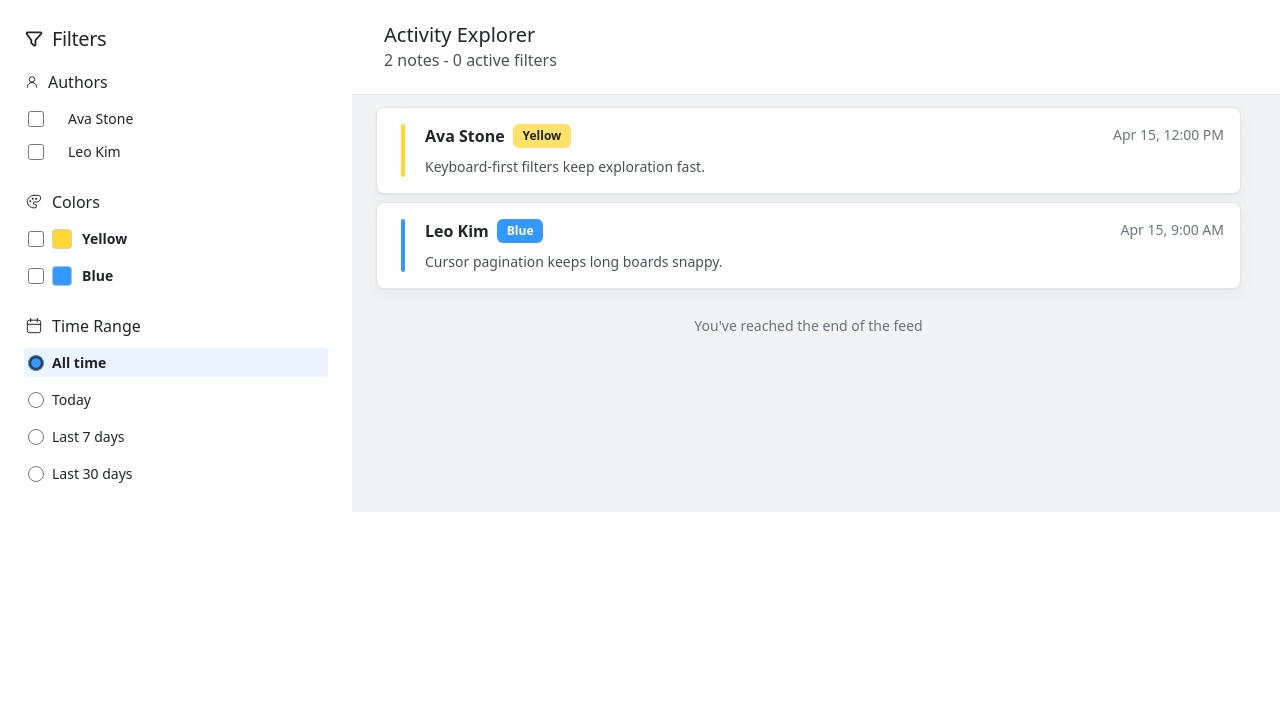
Test case: ActivityExplorerPage › switches note details from feed selection and allows closing selection
Step 1. Click the button with aria-label "note from ava stone" → [465, 136], box [376,107,1241,194]
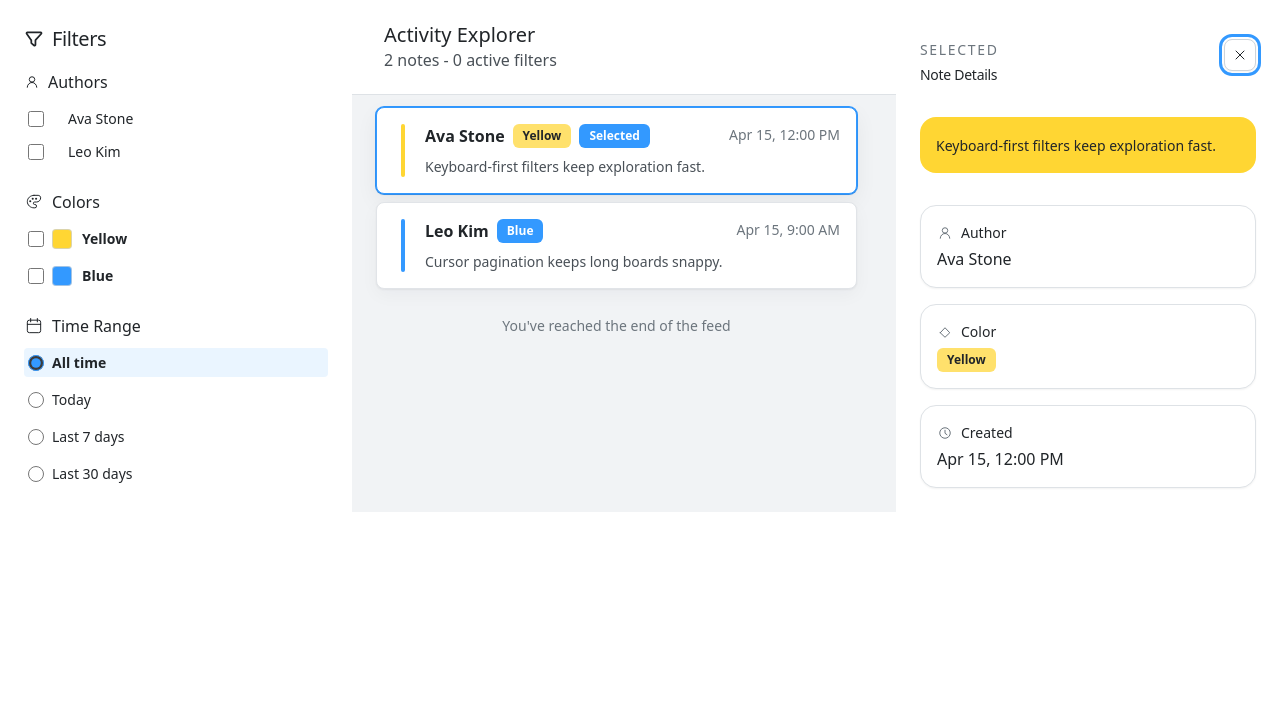
Check: the text "Keyboard-first filters keep exploration fast." below "Note Details" is shown, box [936,136,1216,154]
Step 2. Click the button with aria-label "note from leo kim" → [457, 231], box [376,202,857,289]
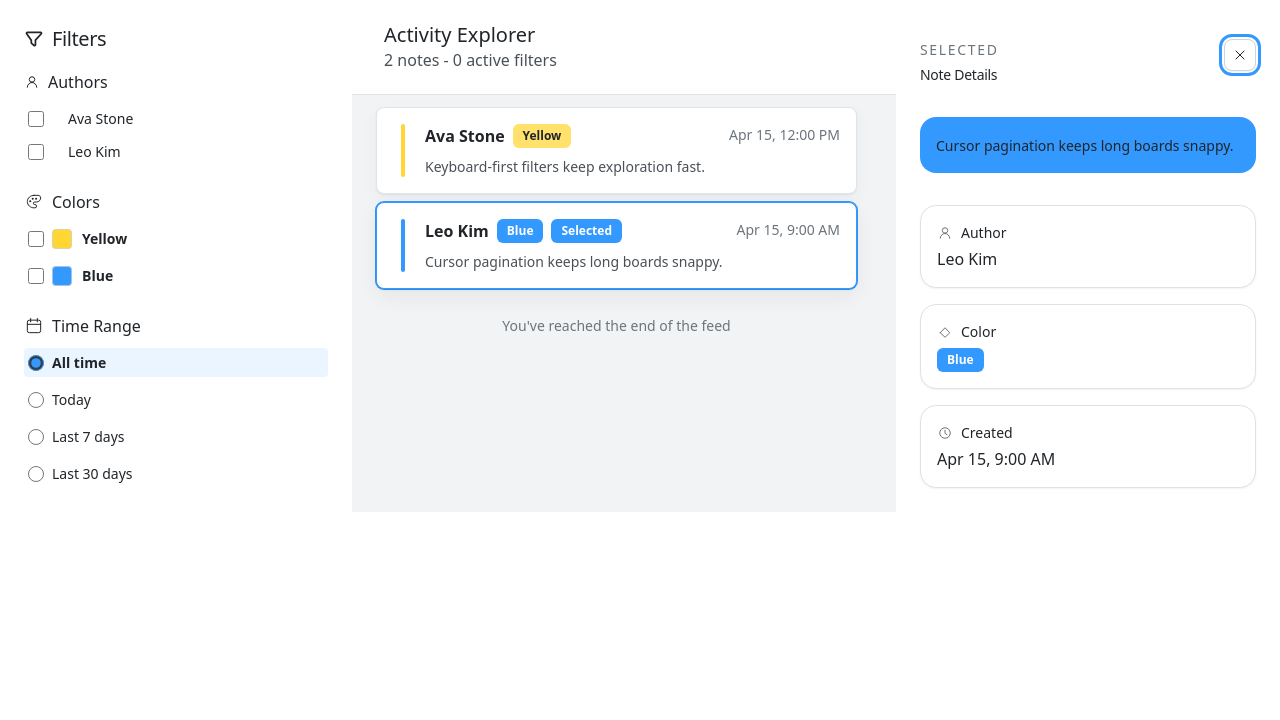
Check: the text "Cursor pagination keeps long boards snappy." below "Note Details" is shown, box [936,136,1234,154]
Step 3. Click the button named "close note details" → [1240, 55], box [1224,39,1256,71]
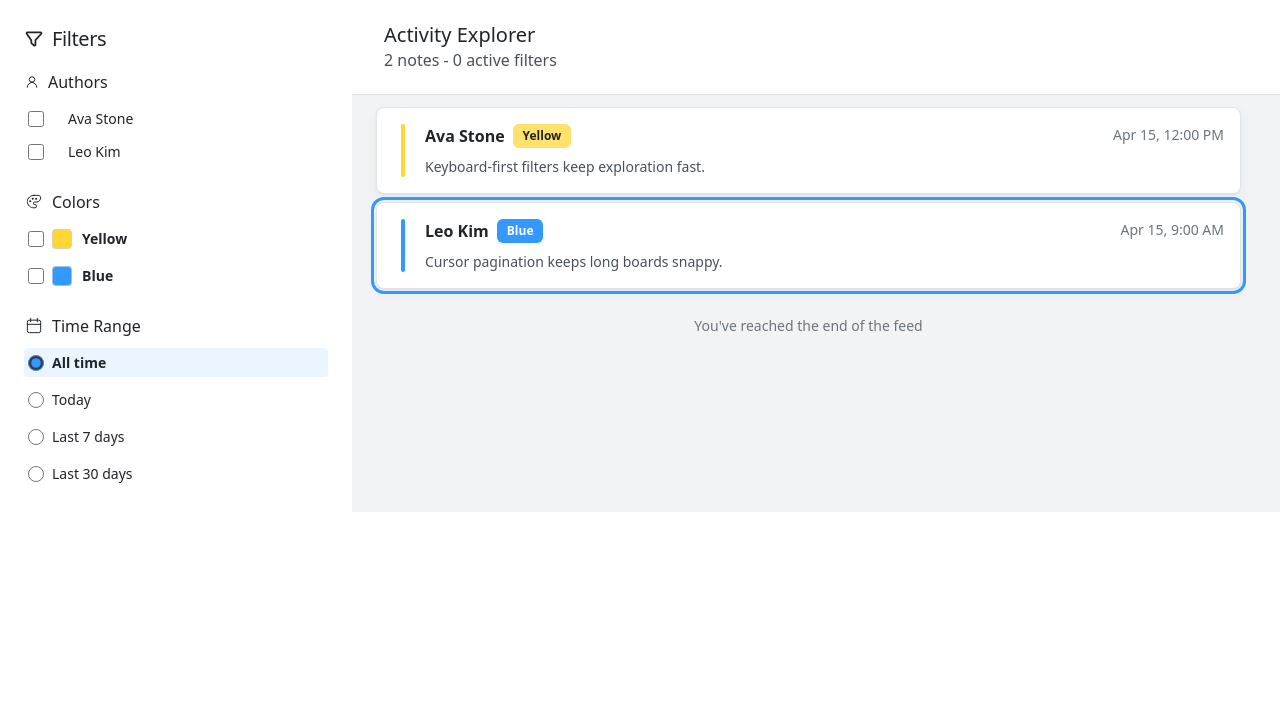
Check: the heading "Note Details" is gone
